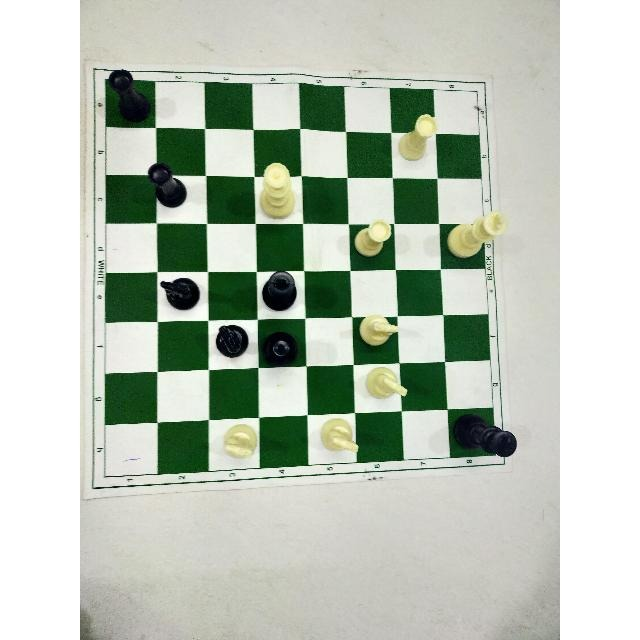black-king: (452, 411, 516, 458), (262, 271, 296, 311)
black-knight: (159, 275, 202, 311), (214, 323, 250, 359)
black-queen: (260, 331, 298, 367)
black-rook: (106, 67, 154, 125), (146, 160, 188, 208)
white-king: (447, 211, 508, 260)
white-knight: (362, 367, 409, 401), (320, 417, 362, 454), (358, 312, 400, 348), (222, 423, 259, 460)
white-queen: (258, 159, 296, 221)
white-rook: (397, 112, 439, 162), (351, 220, 392, 260)
